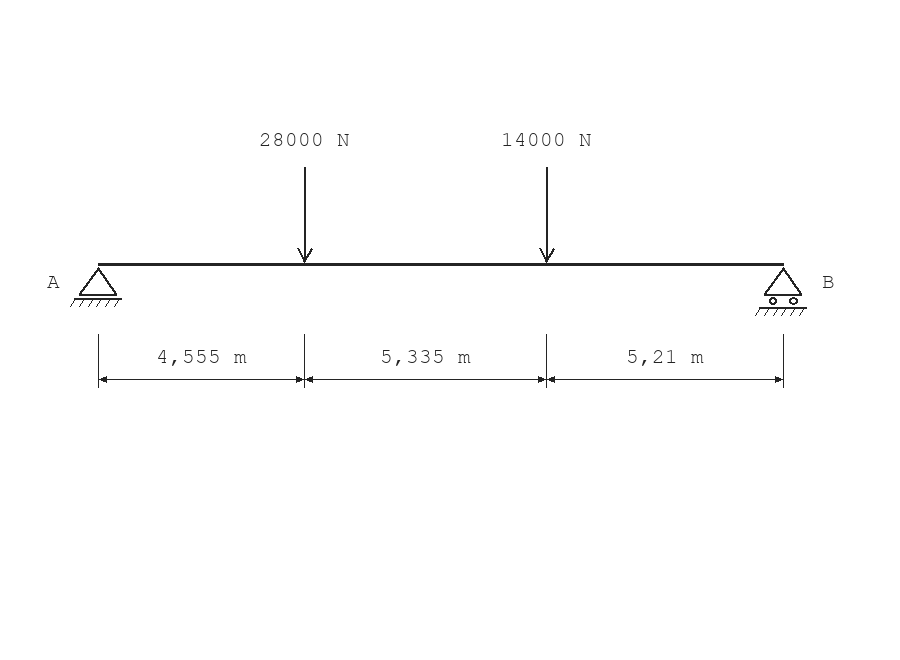pin_support: (70, 267, 122, 307)
point_load: (297, 167, 313, 263), (539, 167, 555, 263)
roller_support: (755, 267, 807, 316)
